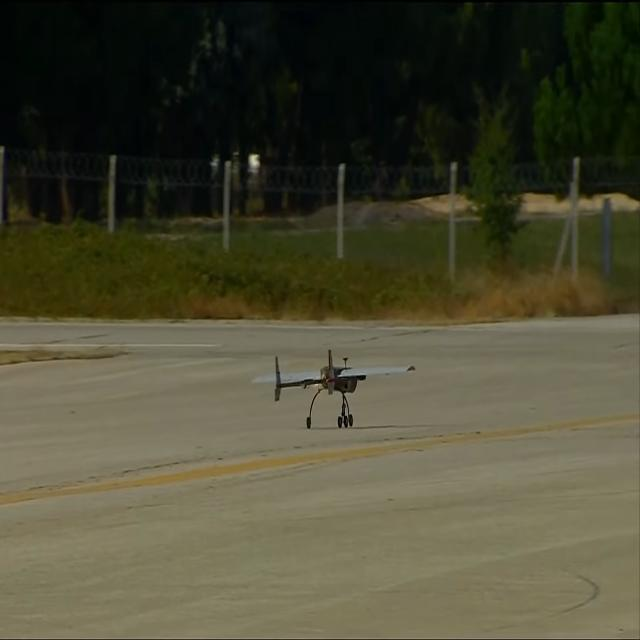iha: (251, 383, 416, 396)
